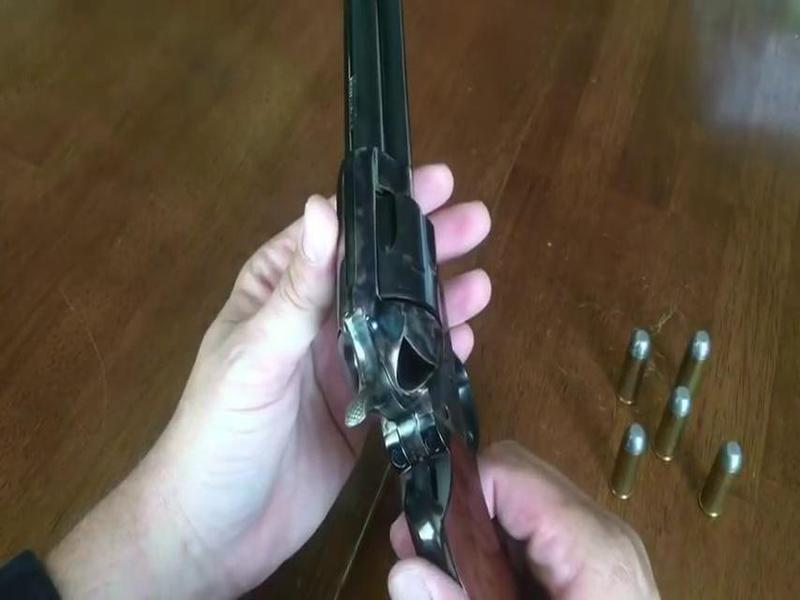Revolver: (311, 14, 592, 600)
